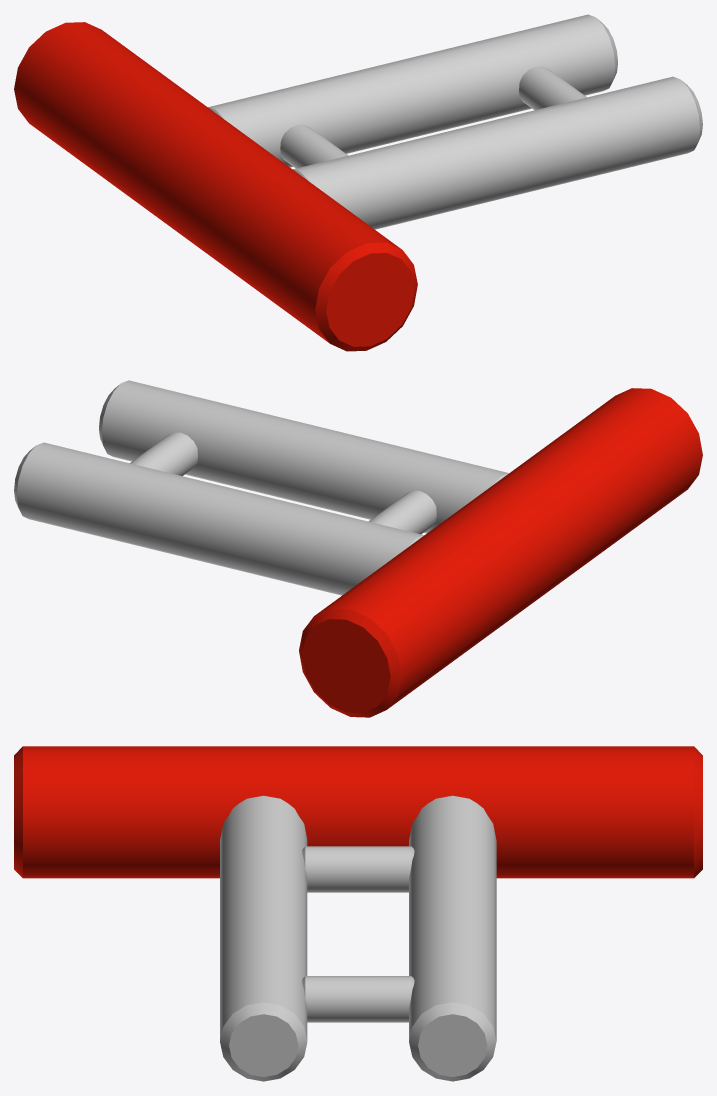
The model's file is Switch Handle.fbx.
3 renders of one model, top to bottom at view 1: azimuth 30°, elevation 25°; view 2: azimuth 150°, elevation 25°; view 3: azimuth 270°, elevation 25°, orthographic. The views are drawn at different scales.
Visible parts, largest first — view 1: Switch Handle; view 2: Switch Handle; view 3: Switch Handle.
Part boxes in pixels (<box>): Switch Handle: <box>14,14,702,351</box>; Switch Handle: <box>14,380,702,717</box>; Switch Handle: <box>14,746,702,1081</box>.
Size of the model in its own units: 69.79 by 14.93 by 77.82.
